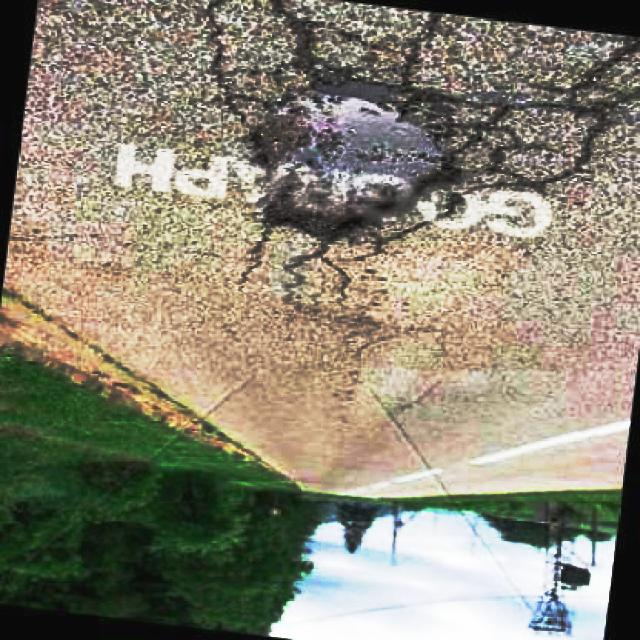pothole: (233, 63, 464, 246)
